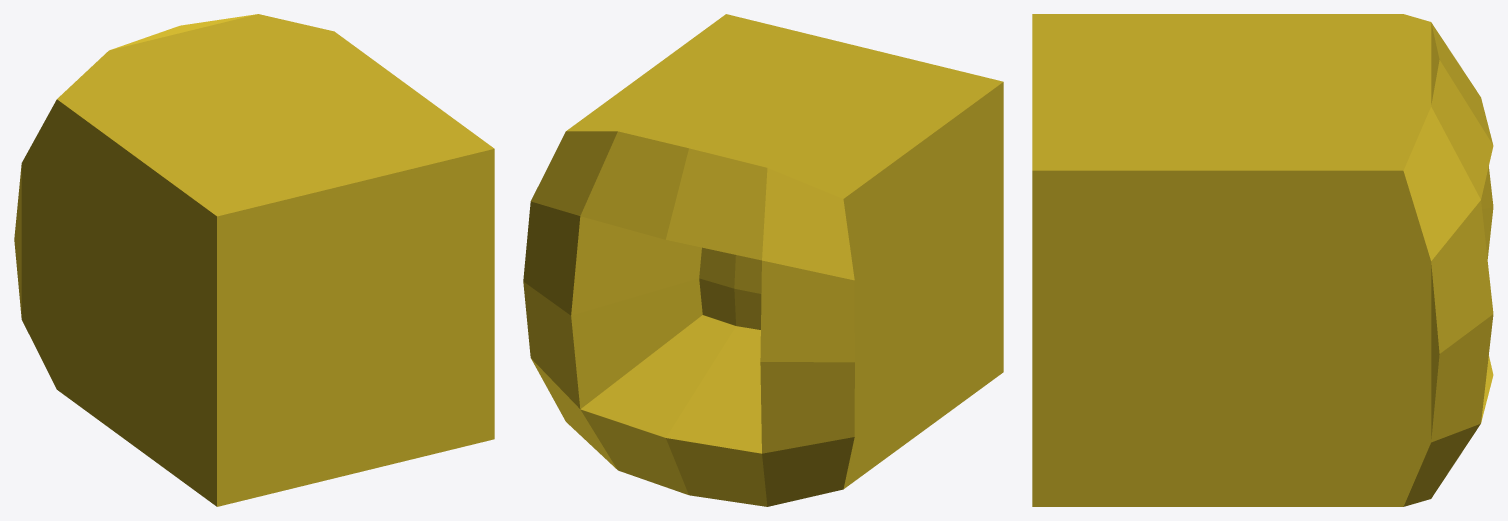
The model's file is shooter.fbx.
3 views of the same model, side by side, from view 1: azimuth 30°, elevation 25°; view 2: azimuth 150°, elevation 25°; view 3: azimuth 270°, elevation 25° (orthographic). The views are drawn at different scales.
Parts seen in each view (by area): view 1: Cube; view 2: Cube; view 3: Cube.
Boxes of the visible parts, left/top/right/bottom form: Cube: left=14, top=14, right=494, bottom=506; Cube: left=523, top=14, right=1003, bottom=506; Cube: left=1032, top=14, right=1493, bottom=506.
Size of the model in its own units: 4.8 by 4.8 by 5.
